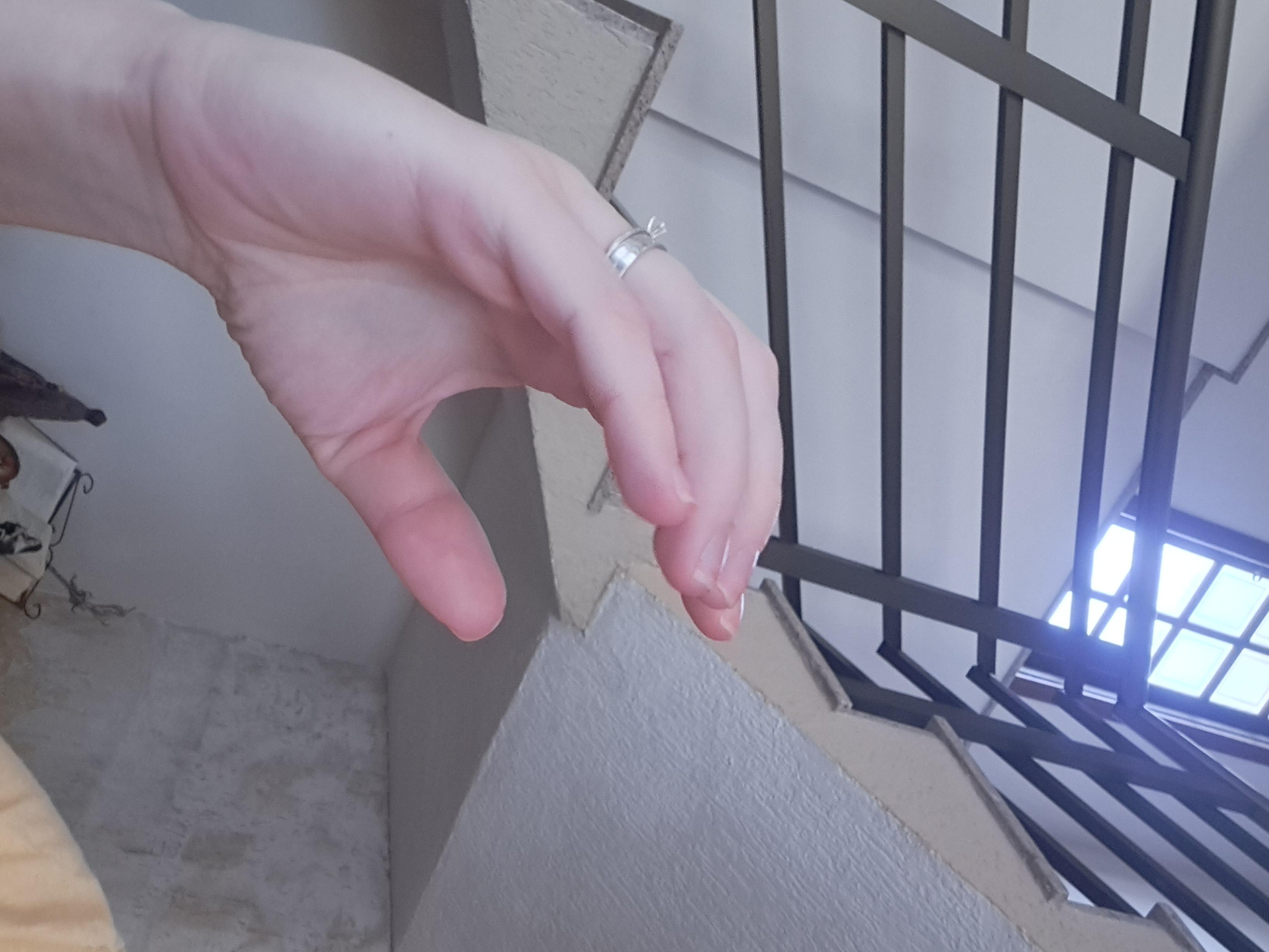C: (73, 341, 871, 779)
